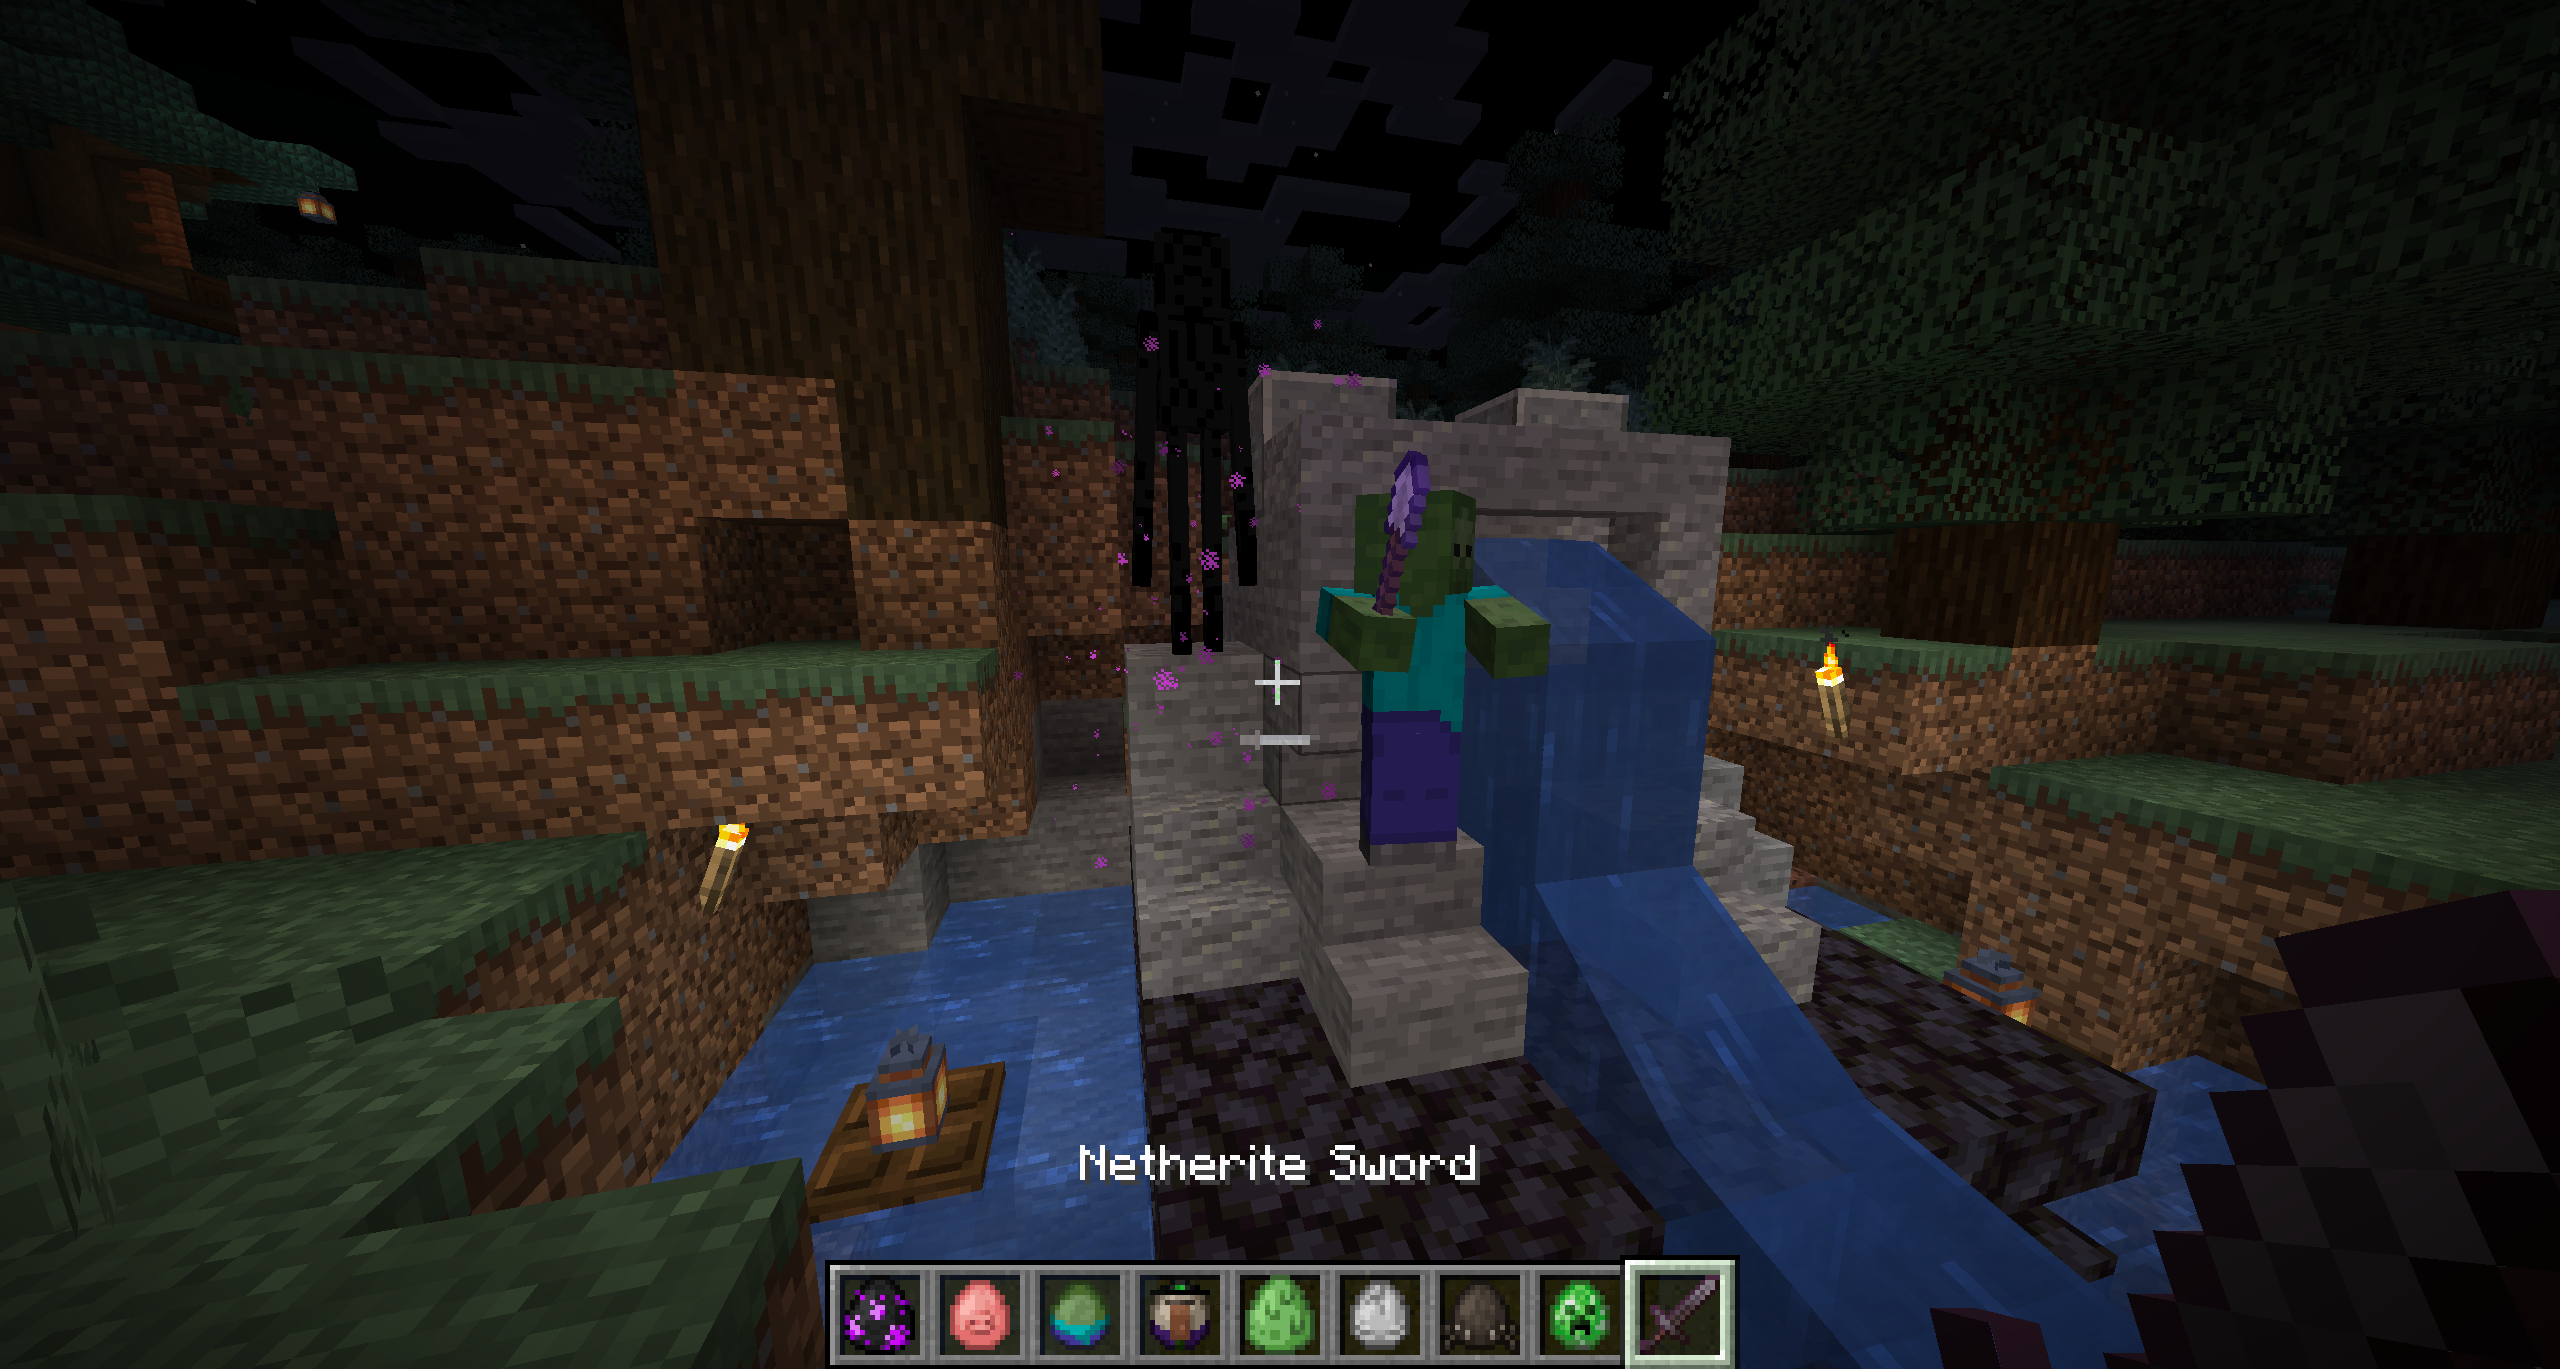endermens: (1101, 208, 1261, 657)
zombies: (1314, 455, 1548, 873)
